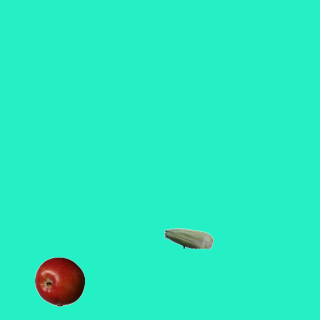Apple Braeburn: (34, 256, 84, 306)
Corn Husk: (163, 213, 213, 263)
